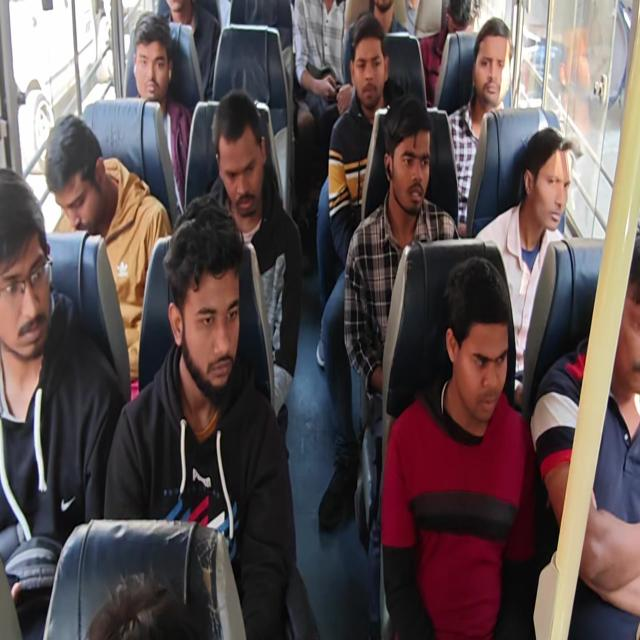person: (162, 227, 255, 386), (79, 532, 210, 640), (443, 258, 518, 438), (202, 100, 271, 225), (47, 128, 116, 251), (0, 202, 49, 374), (610, 221, 640, 406), (470, 8, 520, 114), (534, 142, 570, 240), (133, 24, 169, 96), (398, 142, 430, 220), (346, 39, 381, 105), (435, 0, 477, 47), (153, 0, 194, 38), (365, 0, 397, 27)
